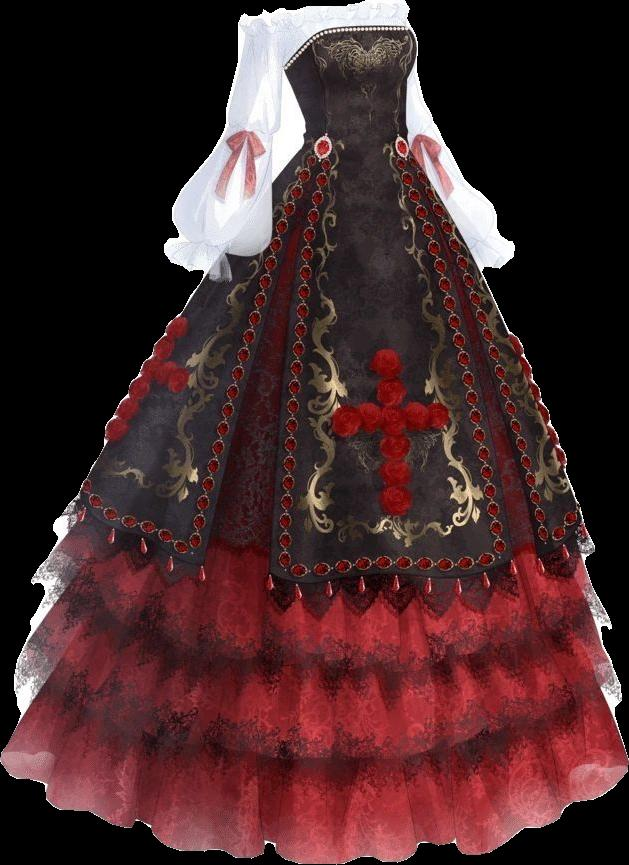Bodice: (259, 0, 417, 156)
Hemline: (267, 150, 524, 621), (52, 156, 331, 586), (31, 577, 612, 695), (0, 758, 628, 864), (427, 205, 596, 581), (7, 673, 624, 773)
Neckline: (280, 20, 410, 73), (267, 0, 407, 21)
Skirt: (1, 144, 627, 861)
Sleeve: (160, 13, 282, 283)
Sleeveline: (258, 16, 286, 72), (182, 236, 231, 257), (225, 123, 273, 137)
